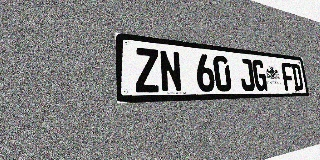0: (213, 55, 232, 92)
6: (195, 53, 216, 92)
D: (291, 63, 304, 90)
F: (281, 62, 295, 91)
G: (252, 59, 268, 91)
J: (238, 58, 255, 91)
N: (159, 50, 183, 92)
Z: (134, 47, 160, 93)
